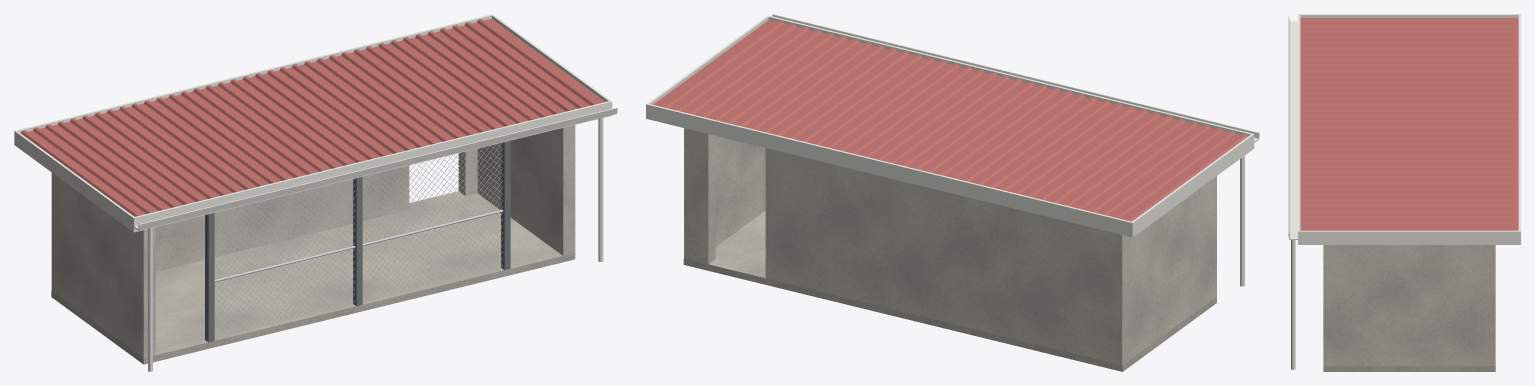
Rendered from dugout_r.glb.
3 renders of one model, left to right at view 1: azimuth 30°, elevation 25°; view 2: azimuth 150°, elevation 25°; view 3: azimuth 270°, elevation 25°, orthographic. The views are drawn at different scales.
Parts seen in each view (by area): view 1: dugout_r_roof_r, dugout_r_block, dugout_r_concrete, dugout_r_trim_w, dugout_r_galv, dugout_r_steel_d; view 2: dugout_r_block, dugout_r_roof_r, dugout_r_trim_w, dugout_r_concrete; view 3: dugout_r_roof_r, dugout_r_block, dugout_r_trim_w, dugout_r_concrete.
Boxes of the visible parts, bbox=[...] form: dugout_r_roof_r: bbox=[20, 18, 605, 216]; dugout_r_block: bbox=[51, 125, 575, 357]; dugout_r_concrete: bbox=[51, 191, 575, 364]; dugout_r_trim_w: bbox=[14, 14, 617, 371]; dugout_r_galv: bbox=[214, 142, 503, 337]; dugout_r_steel_d: bbox=[205, 140, 510, 342]; dugout_r_block: bbox=[684, 128, 1216, 365]; dugout_r_roof_r: bbox=[653, 20, 1247, 221]; dugout_r_trim_w: bbox=[646, 14, 1259, 286]; dugout_r_concrete: bbox=[683, 211, 1216, 371]; dugout_r_roof_r: bbox=[1300, 18, 1518, 230]; dugout_r_block: bbox=[1323, 245, 1495, 365]; dugout_r_trim_w: bbox=[1288, 14, 1520, 369]; dugout_r_concrete: bbox=[1323, 366, 1495, 371].
Bounding box in the file's own units: 7.76 × 2.51 × 3.51.
11 materials, 4 textured.
